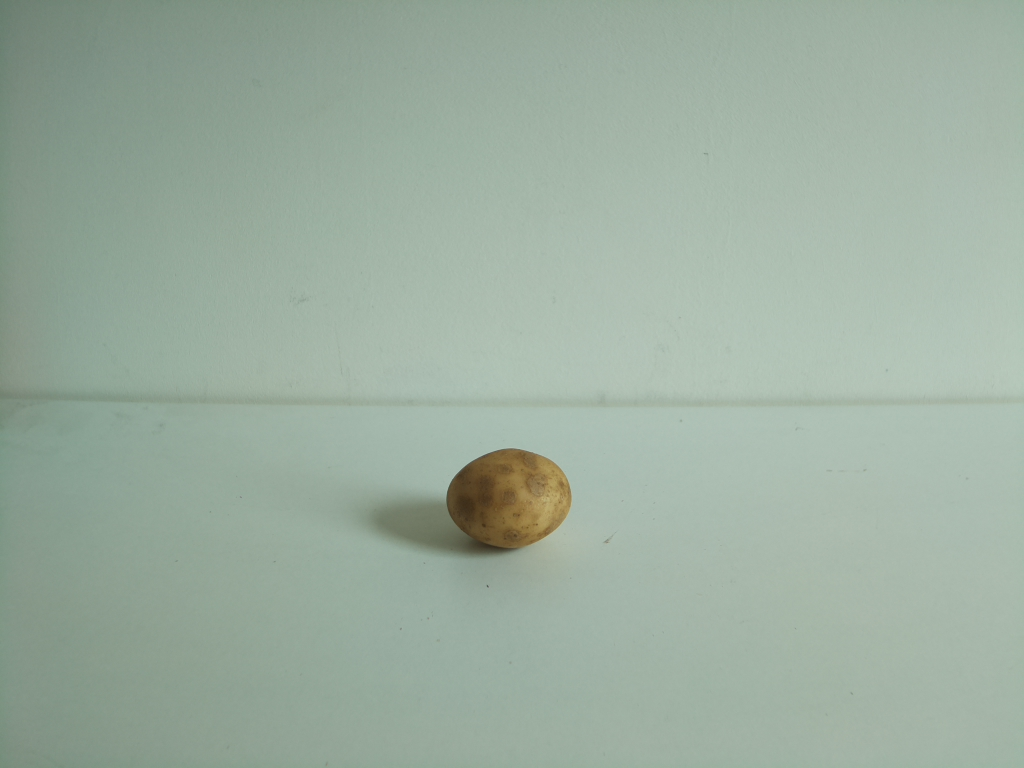potatoes: (442, 447, 575, 554)
